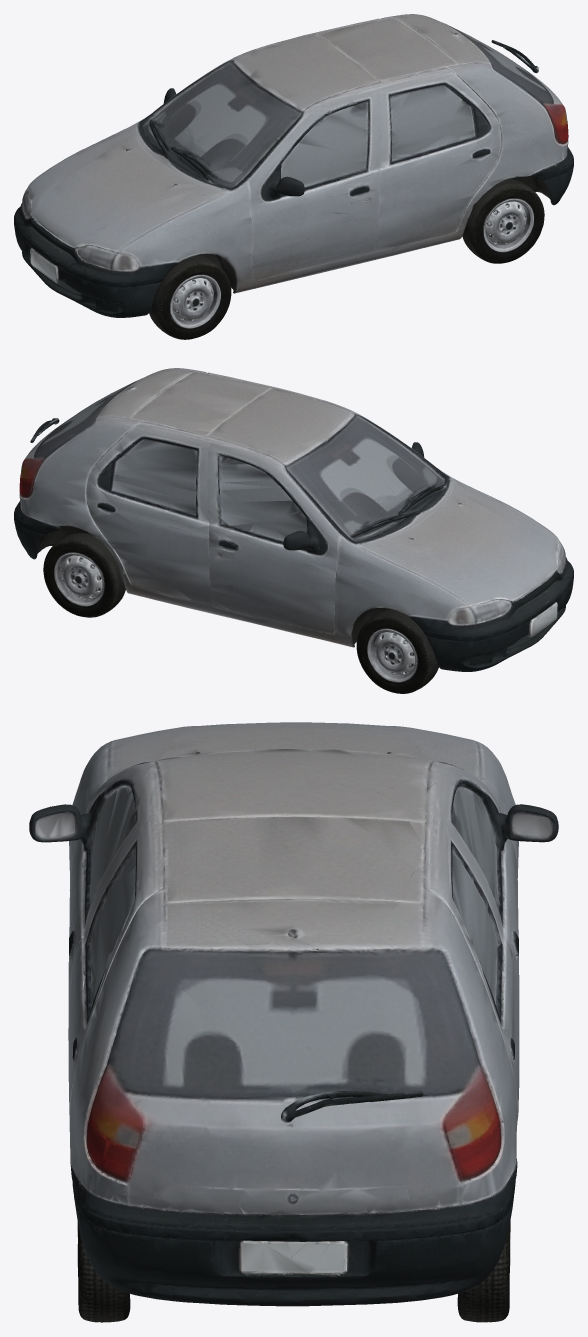
The model's file is tupiniquim__01a16954.glb.
3 renders of one model, top to bottom at view 1: azimuth 30°, elevation 25°; view 2: azimuth 150°, elevation 25°; view 3: azimuth 270°, elevation 25°, orthographic. The views are drawn at different scales.
Visible parts, largest first — view 1: tupiniquim__01a16954; view 2: tupiniquim__01a16954; view 3: tupiniquim__01a16954.
Boxes of the visible parts, left/top/right/bottom form: tupiniquim__01a16954: left=14, top=14, right=573, bottom=339; tupiniquim__01a16954: left=14, top=368, right=573, bottom=693; tupiniquim__01a16954: left=29, top=722, right=558, bottom=1322.
Size of the model in its own units: 3.74 by 1.41 by 1.72.
1 material, 1 textured.
